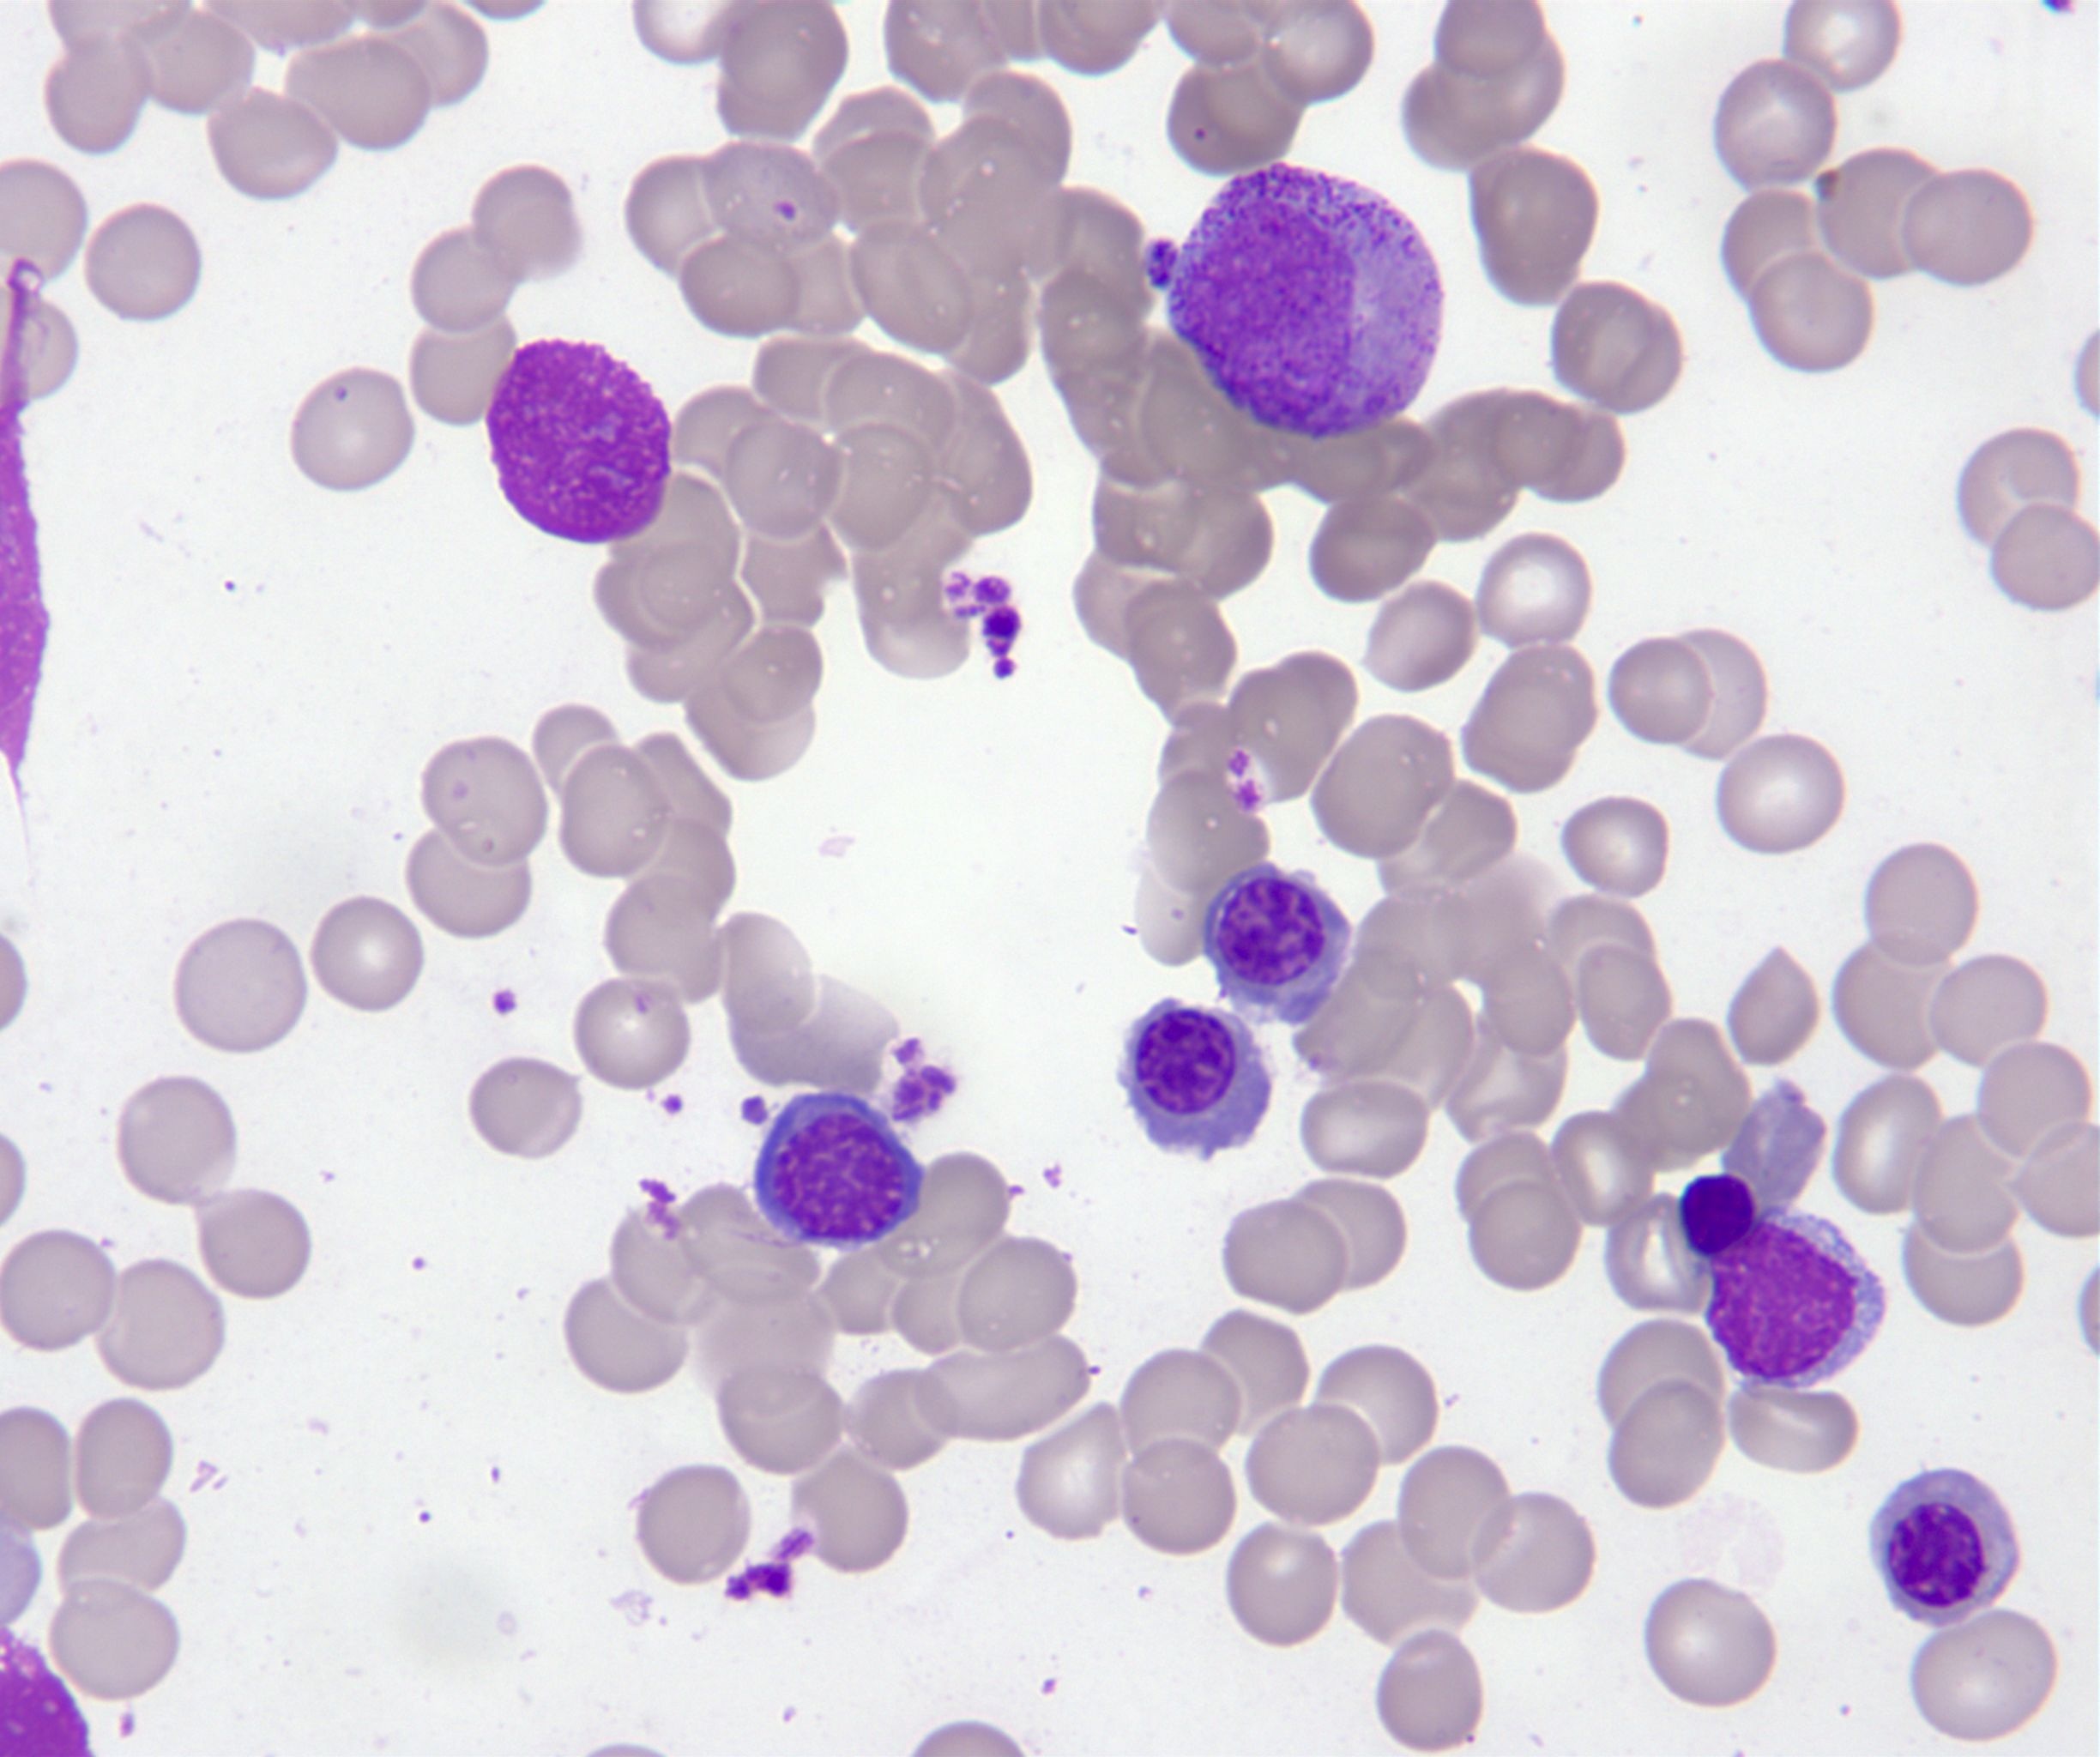23: (747, 1085, 930, 1255)
24: (1197, 857, 1359, 1031), (1118, 991, 1275, 1162), (1865, 1466, 2022, 1633), (1674, 1167, 1763, 1263)
3: (1144, 159, 1451, 445)
32: (1702, 1213, 1891, 1401)
x: (480, 335, 684, 553)
